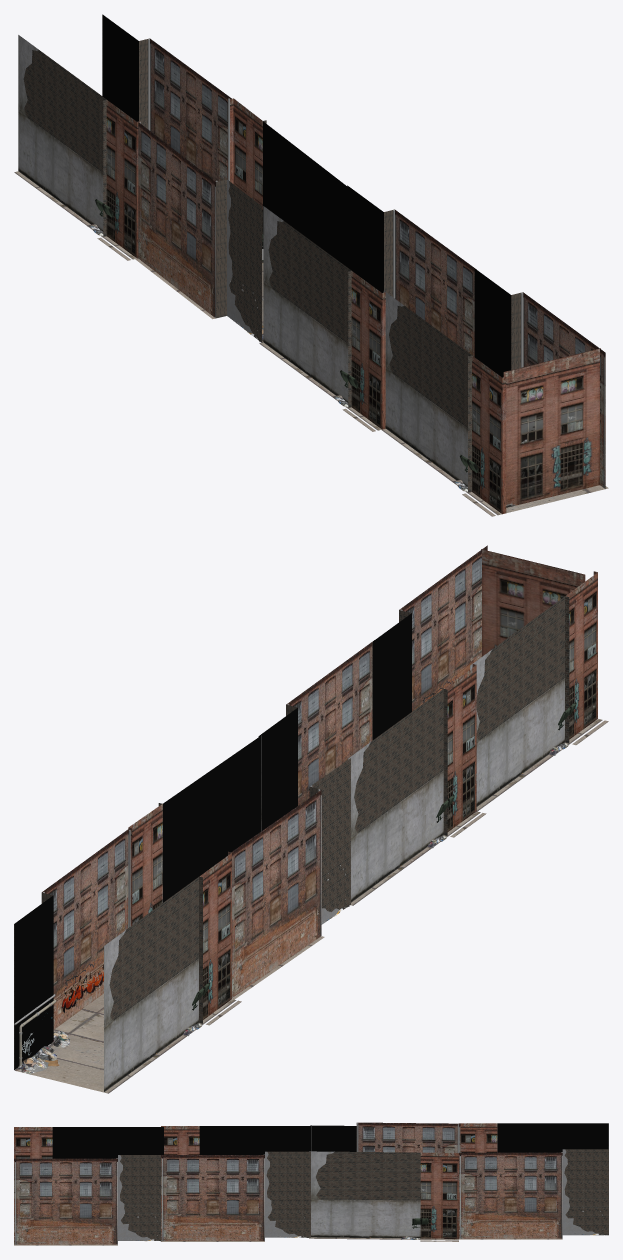
File: newStage.fbx
The picture shows the model from 3 angles, top to bottom: view 1: azimuth 30°, elevation 25°; view 2: azimuth 150°, elevation 25°; view 3: azimuth 270°, elevation 25°; orthographic projection. The views are drawn at different scales.
Parts seen in each view (by area): view 1: Plane_1, Plane.002_3.002, Plane.002_3.003, Plane.002_3, Plane_1.001, Plane_1.002, Plane.003_47.001, Plane.001_2.001, Plane_1.003, Plane.004_48.003, Plane.004_48.002, Plane.004_48 (+4 smaller); view 2: Plane_1, Plane.002_3, Plane.002_3.002, Plane.002_3.003, Plane_1.001, Plane.003_47.001, Plane_1.003, Plane_1.002, Plane.004_48, Plane.001_2.001, Plane.004_48.003, Plane.004_48.002 (+2 smaller); view 3: Plane.002_3.001, Plane_1.003, Plane_1, Plane_1.002, Plane.001_2, Plane.001_2.002, Plane.001_2.003, Plane.003_47.003, Plane_1.001, Plane.003_47, Plane.003_47.002, Plane.002_3.003 (+3 smaller).
Boxes of the visible parts, box(x1,y1,x2,y2) form: Plane_1: box(14, 38, 600, 507); Plane.002_3.002: box(263, 206, 385, 431); Plane.002_3.003: box(383, 291, 506, 516); Plane.002_3: box(18, 35, 140, 260); Plane_1.001: box(134, 121, 263, 342); Plane_1.002: box(259, 210, 476, 430); Plane.003_47.001: box(263, 121, 347, 267); Plane.001_2.001: box(216, 179, 262, 342); Plane_1.003: box(381, 292, 608, 515); Plane.004_48.003: box(474, 268, 511, 377); Plane.004_48.002: box(347, 185, 383, 292); Plane.004_48: box(102, 15, 138, 121); Plane_1: box(15, 549, 585, 1093); Plane.002_3: box(104, 851, 241, 1091); Plane.002_3.002: box(348, 664, 486, 902); Plane.002_3.003: box(470, 571, 608, 806); Plane_1.001: box(229, 790, 324, 999); Plane.003_47.001: box(163, 736, 261, 902); Plane_1.003: box(399, 545, 602, 813); Plane_1.002: box(286, 640, 480, 905); Plane.004_48: box(14, 895, 53, 1069); Plane.001_2.001: box(310, 758, 350, 924); Plane.004_48.003: box(372, 613, 411, 739); Plane.004_48.002: box(258, 708, 297, 830); Plane.002_3.001: box(309, 1151, 458, 1241); Plane_1.003: box(14, 1158, 117, 1245); Plane_1: box(459, 1152, 562, 1239); Plane_1.002: box(161, 1155, 264, 1241); Plane.001_2: box(562, 1149, 608, 1235); Plane.001_2.002: box(265, 1151, 310, 1237); Plane.001_2.003: box(118, 1155, 160, 1240); Plane.003_47.003: box(52, 1127, 163, 1158); Plane_1.001: box(309, 1122, 460, 1240); Plane.003_47: box(497, 1123, 608, 1152); Plane.003_47.002: box(199, 1126, 310, 1154); Plane.002_3.003: box(14, 1127, 52, 1158).
Size of the model in its own units: 2329 by 2383 by 14891.
